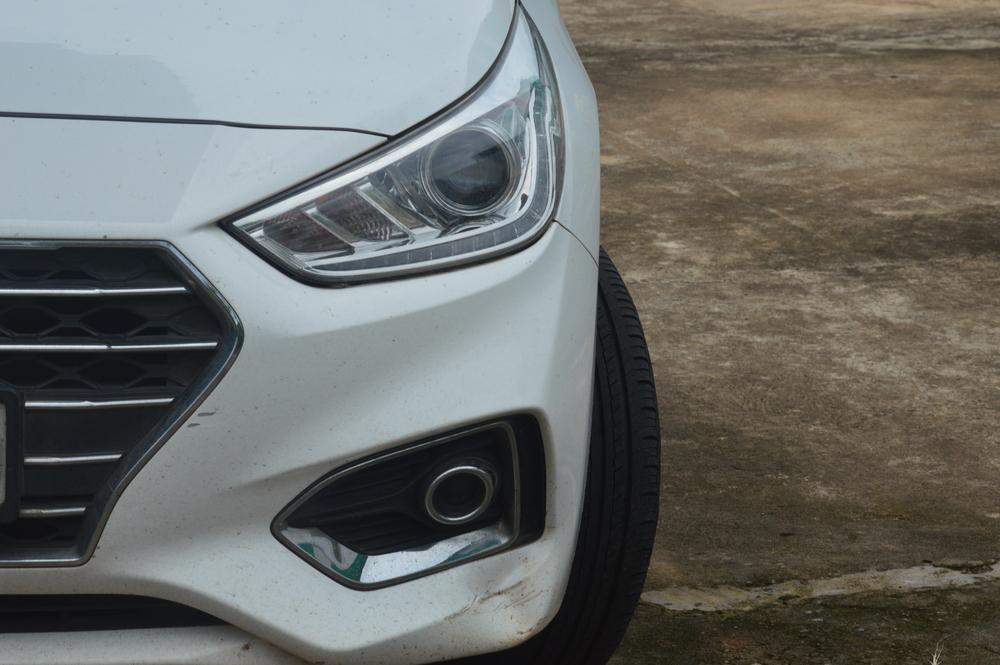dent: (463, 556, 550, 637)
